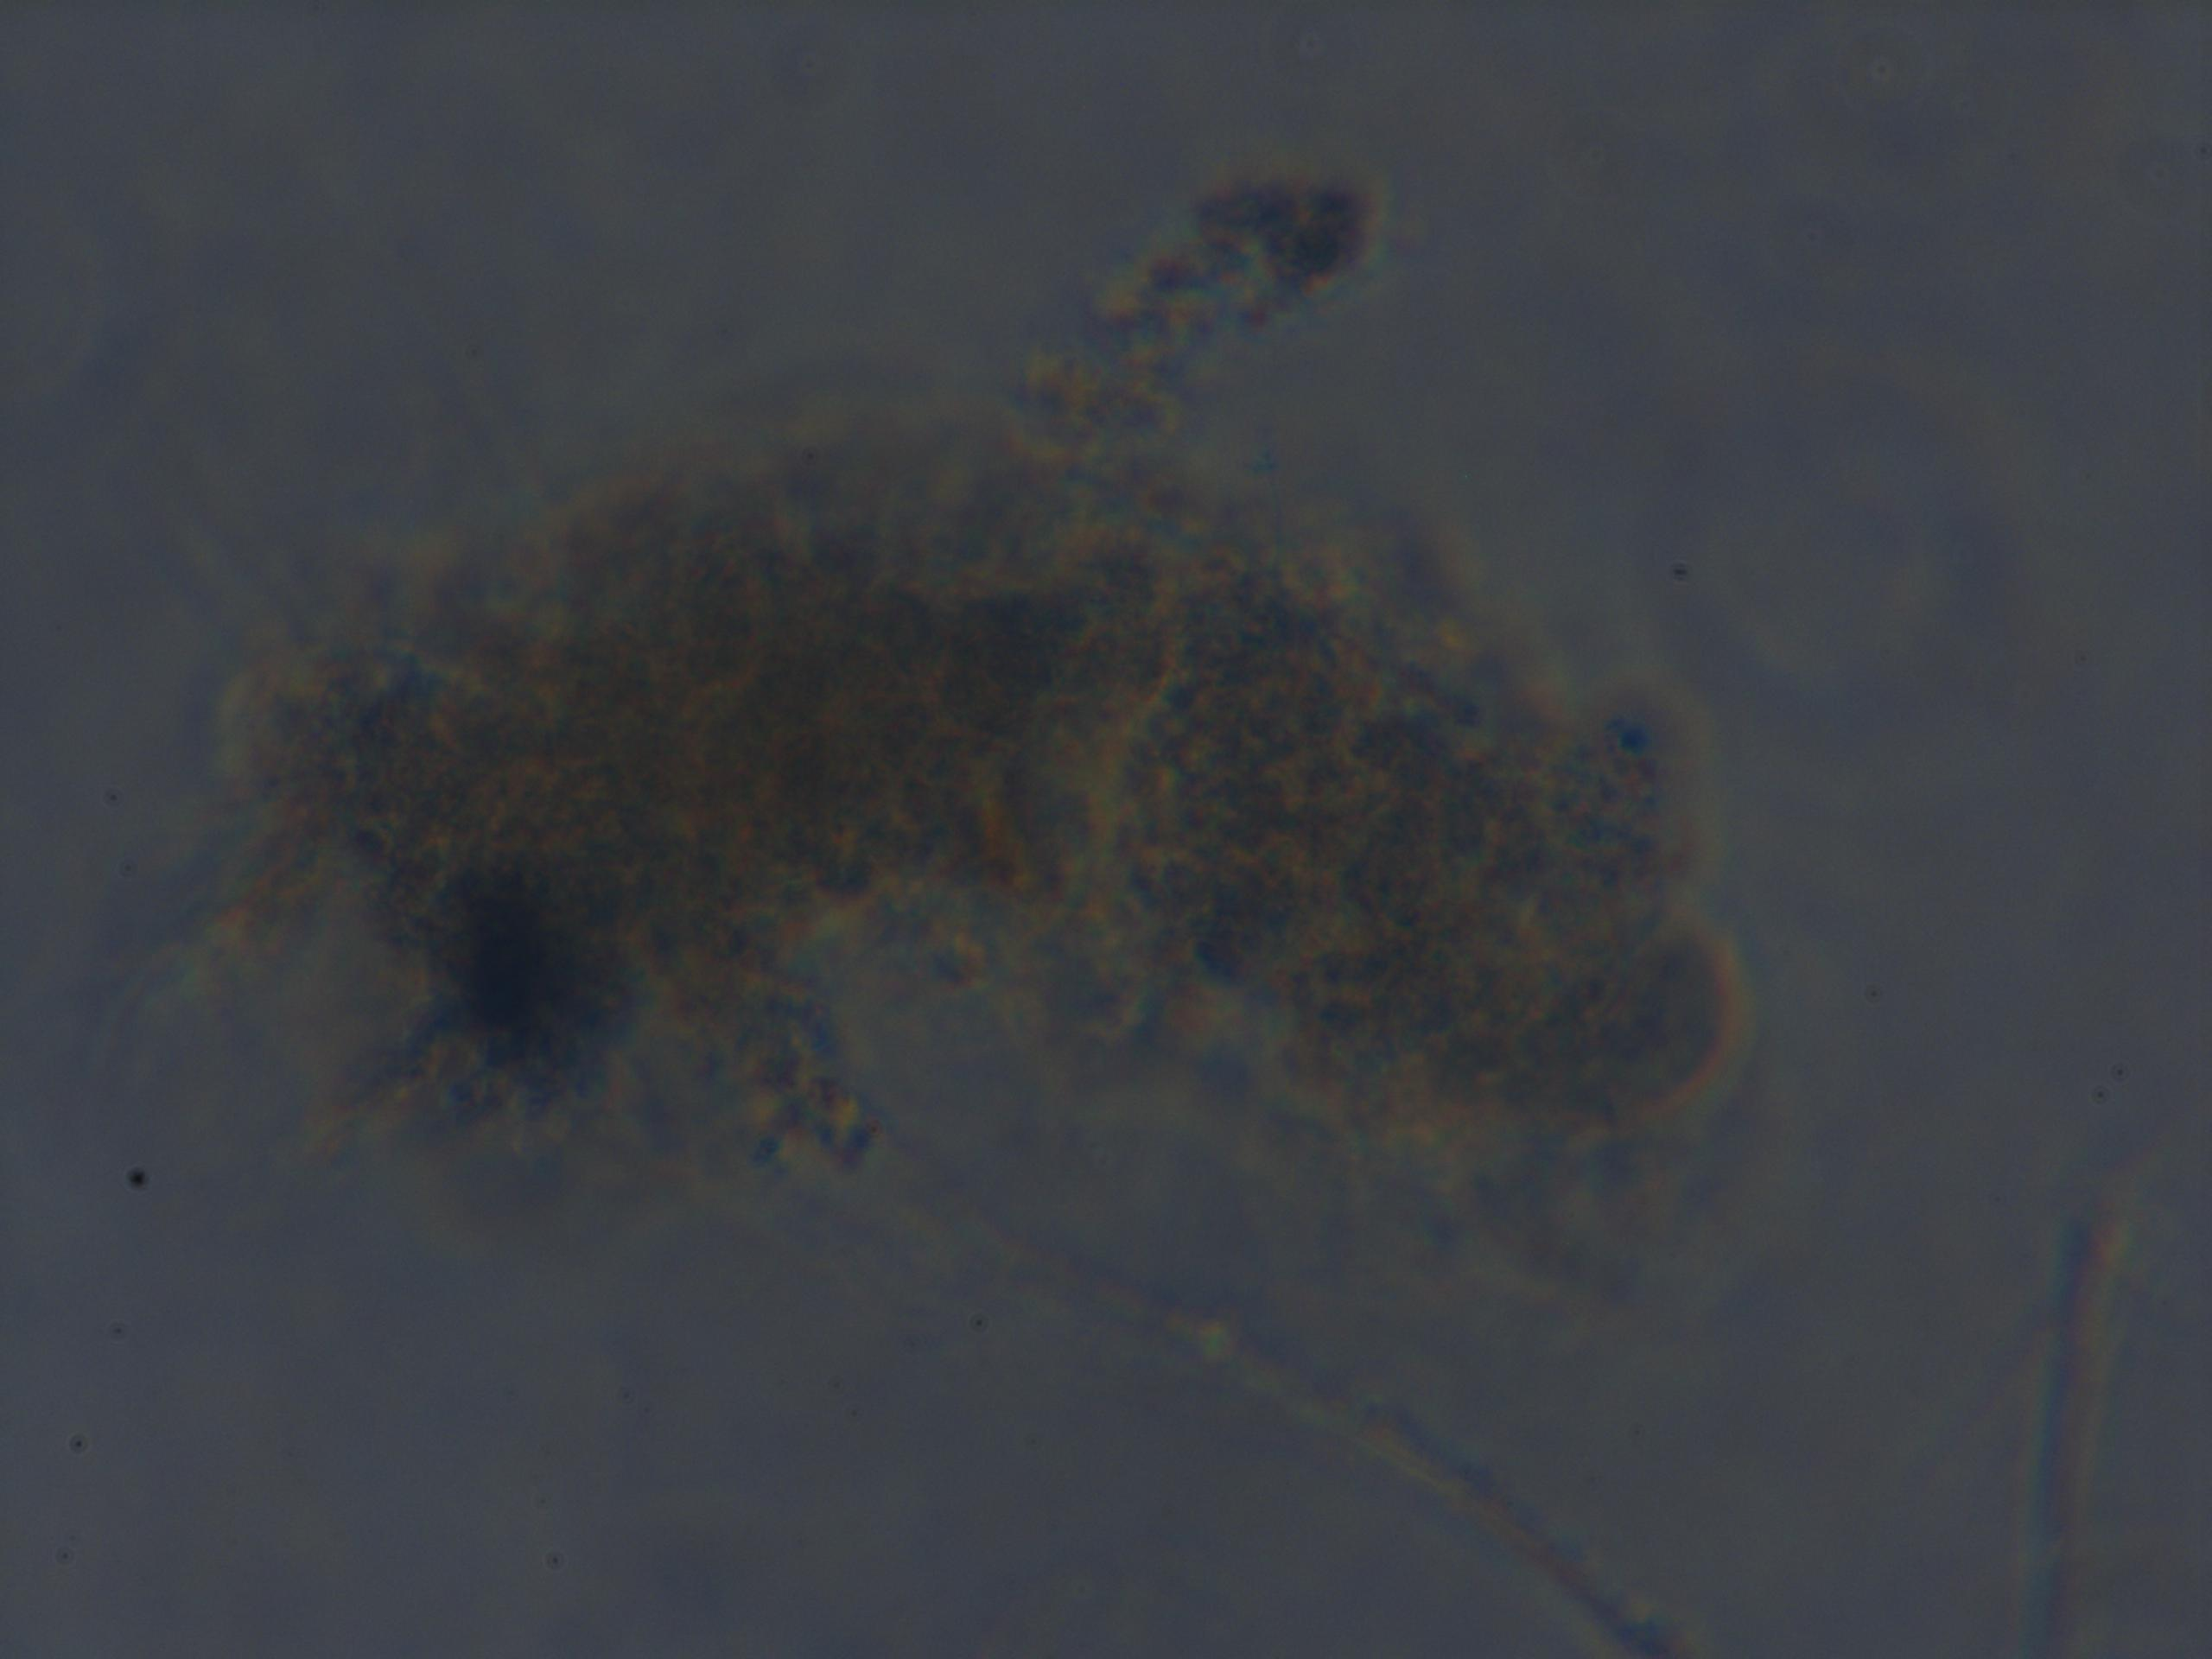filament: (822, 1094, 1695, 1659), (2020, 1143, 2121, 1659)
